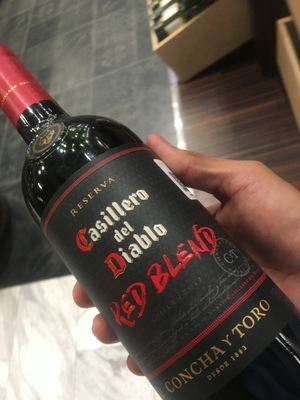casillero del diablo red blend: (19, 58, 282, 391)
